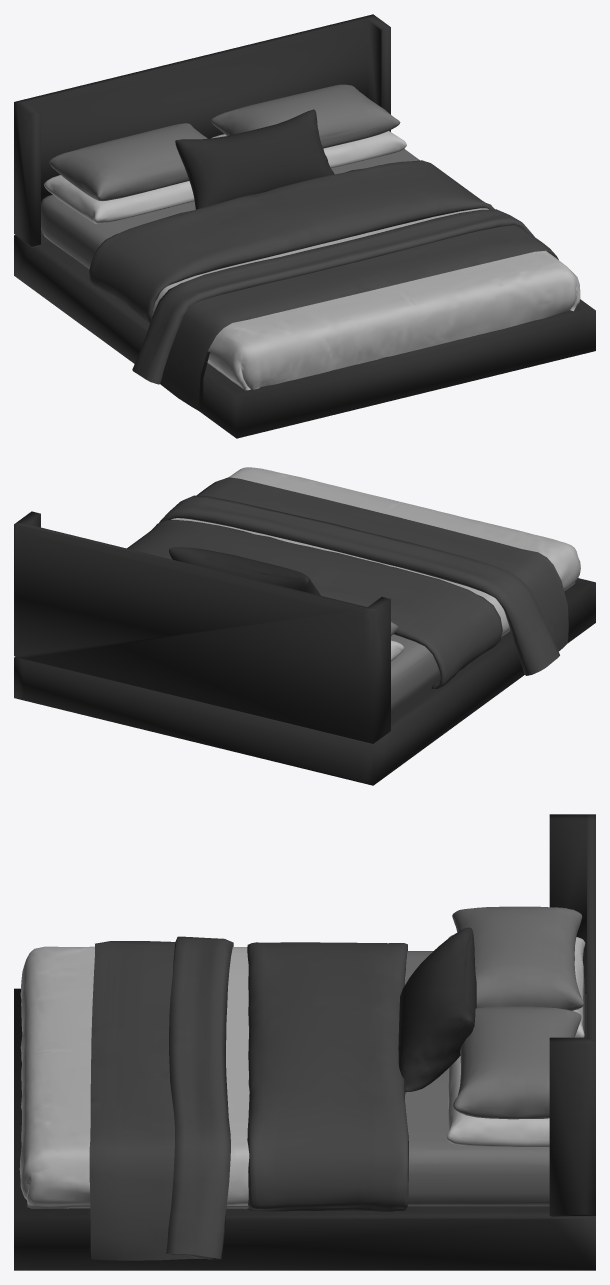
The model's file is bed.glb.
The picture shows the model from 3 angles, top to bottom: view 1: azimuth 30°, elevation 25°; view 2: azimuth 150°, elevation 25°; view 3: azimuth 270°, elevation 25°; orthographic projection. The views are drawn at different scales.
Parts seen in each view (by area): view 1: Bed_LP_Default_0; view 2: Bed_LP_Default_0; view 3: Bed_LP_Default_0.
Part boxes in pixels (bbox=[...]): Bed_LP_Default_0: bbox=[14, 14, 595, 438]; Bed_LP_Default_0: bbox=[14, 467, 595, 785]; Bed_LP_Default_0: bbox=[14, 814, 595, 1270].
Size of the model in its own units: 2137 by 858 by 1993.
1 material, 1 textured.
